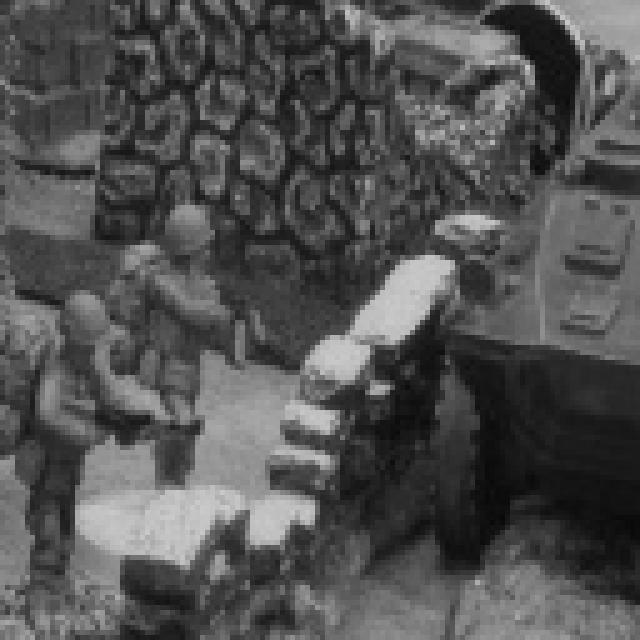Rifle: (170, 242, 304, 390), (55, 374, 225, 464)
